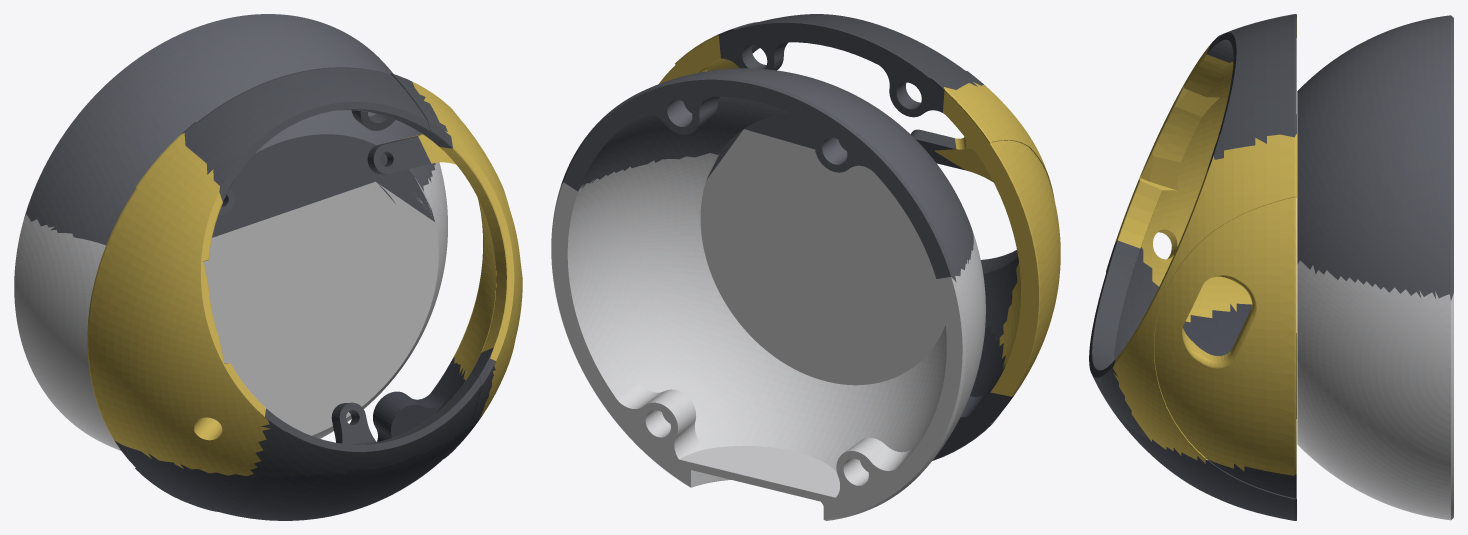
Rendered from poketama-ultra.glb.
The picture shows the model from 3 angles, left to right: view 1: azimuth 30°, elevation 25°; view 2: azimuth 150°, elevation 25°; view 3: azimuth 270°, elevation 25°; orthographic projection. The views are drawn at different scales.
Bounding box in the file's own units: 1.99 × 1.93 × 1.43.
